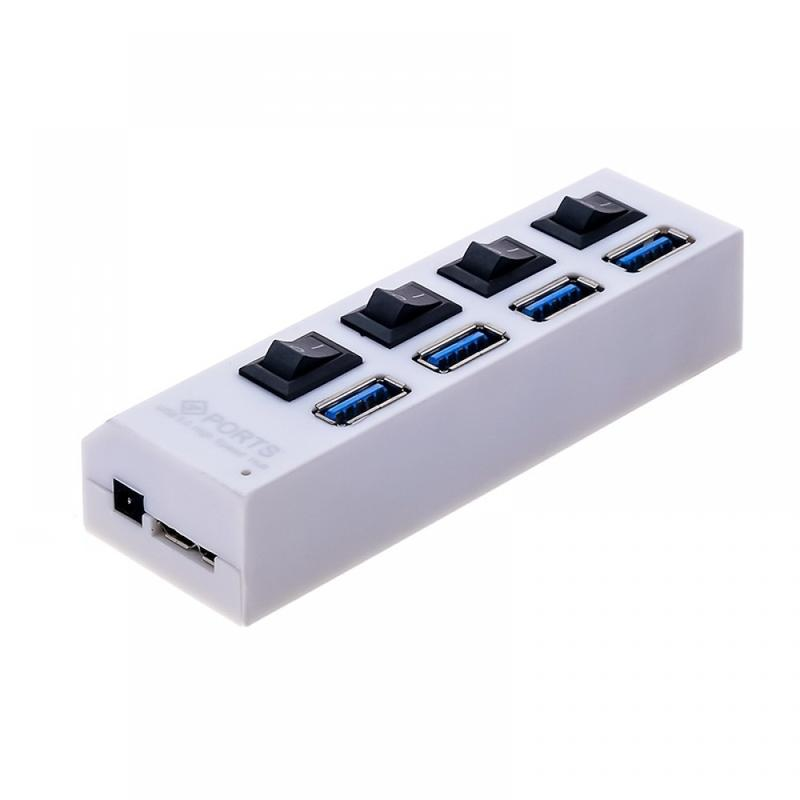USB: (595, 216, 722, 281), (305, 372, 404, 444), (510, 267, 612, 333), (417, 323, 511, 372)
